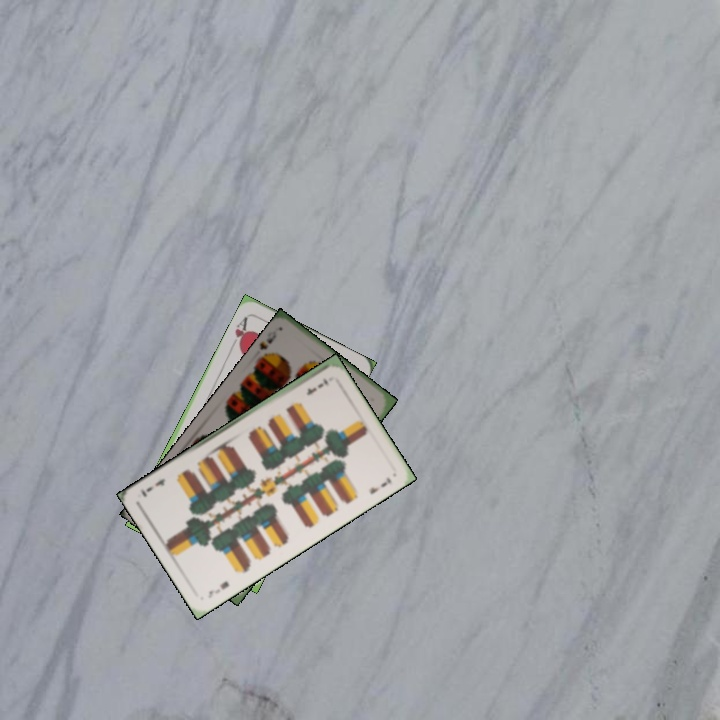E7: (204, 577, 232, 601), (303, 374, 330, 398)
HA: (227, 312, 251, 352)
S9: (253, 327, 279, 363)
